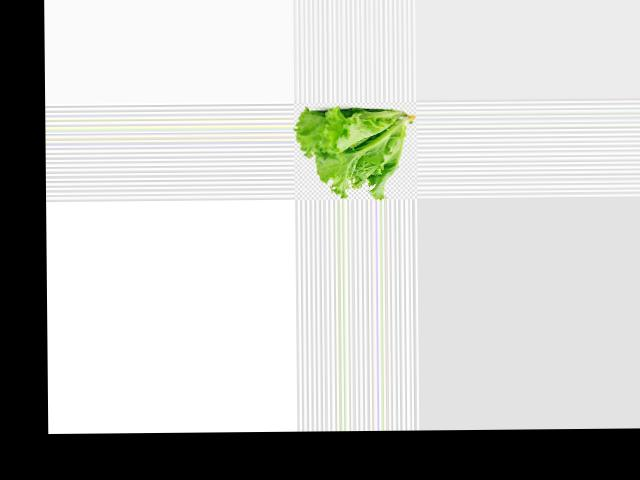lettuce: (295, 109, 417, 199)
